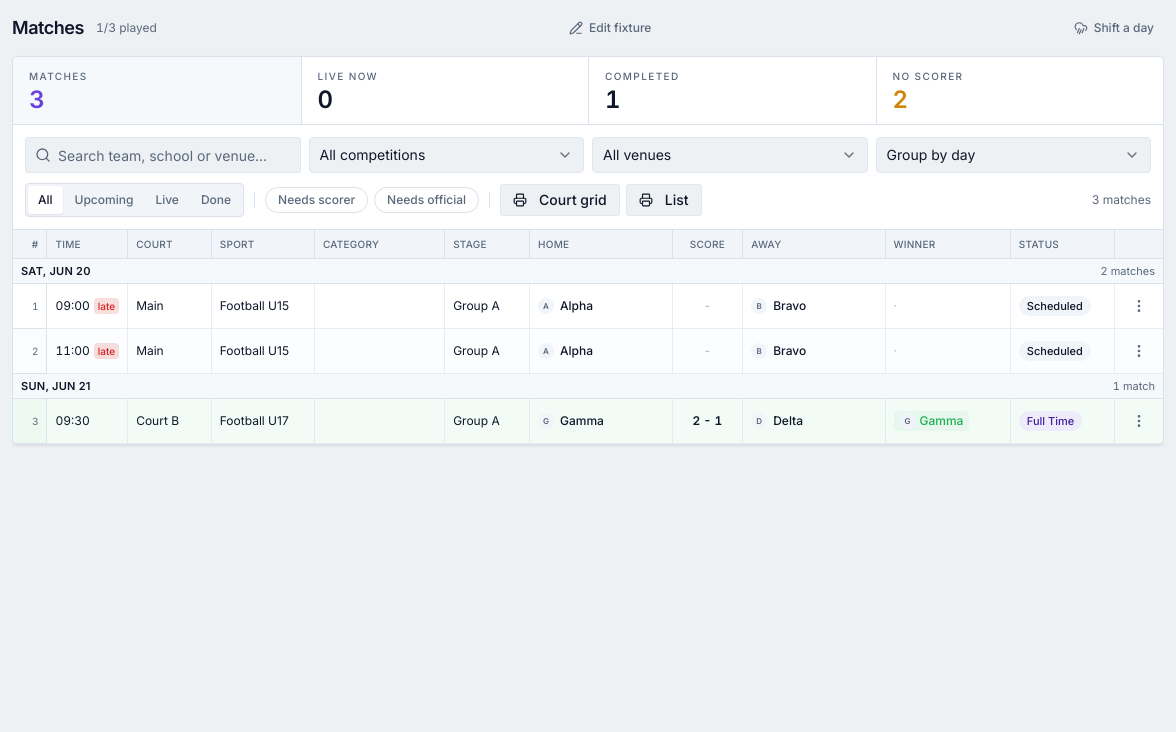
Test: MatchesBoardPage › lists every match with headline counts and manager actions
The width and height of the screenshot is (1176, 732).
Expected: the row with test id "tile-m1" is shown, [13,284,1163,329]
Expected: the row with test id "tile-m2" is shown, [13,329,1163,374]
Step 1. Click the button with test id "actions-m1" → x=1139, y=306, box [1123,290,1155,322]
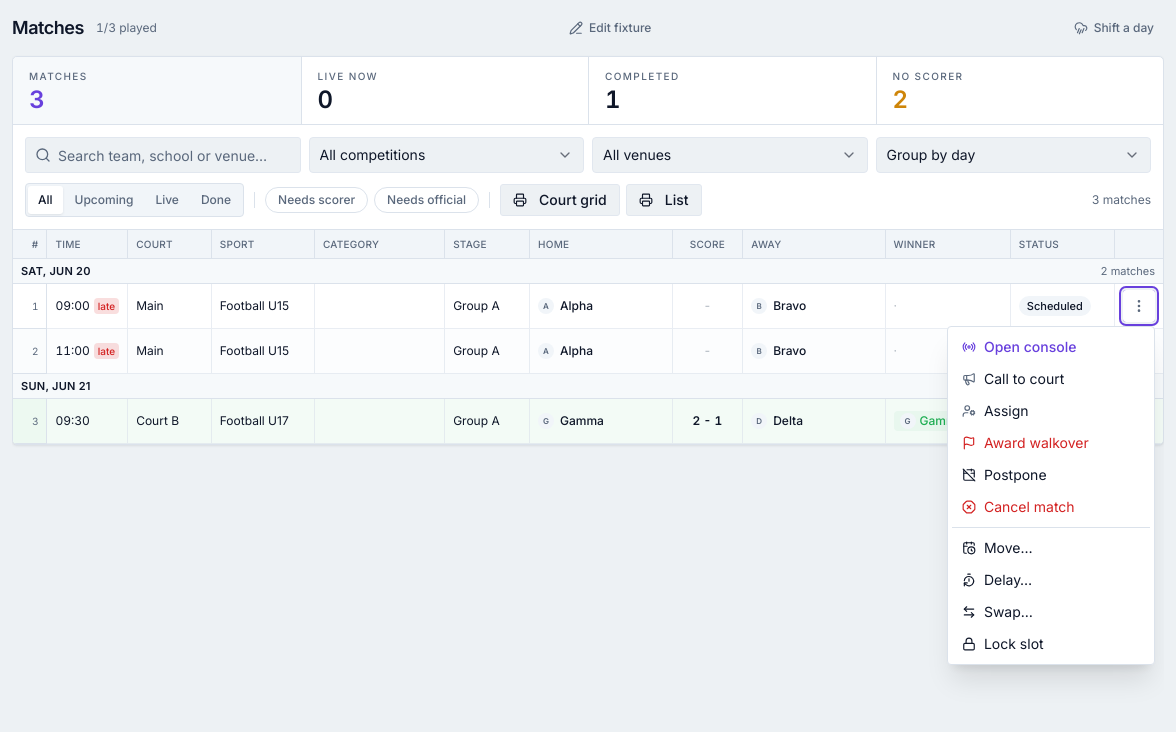
Expected: the menu item with test id "assign-m1" is shown, [952,395,1150,427]
Expected: the menu item with test id "console-m1" is shown, [962,338,1076,355]
